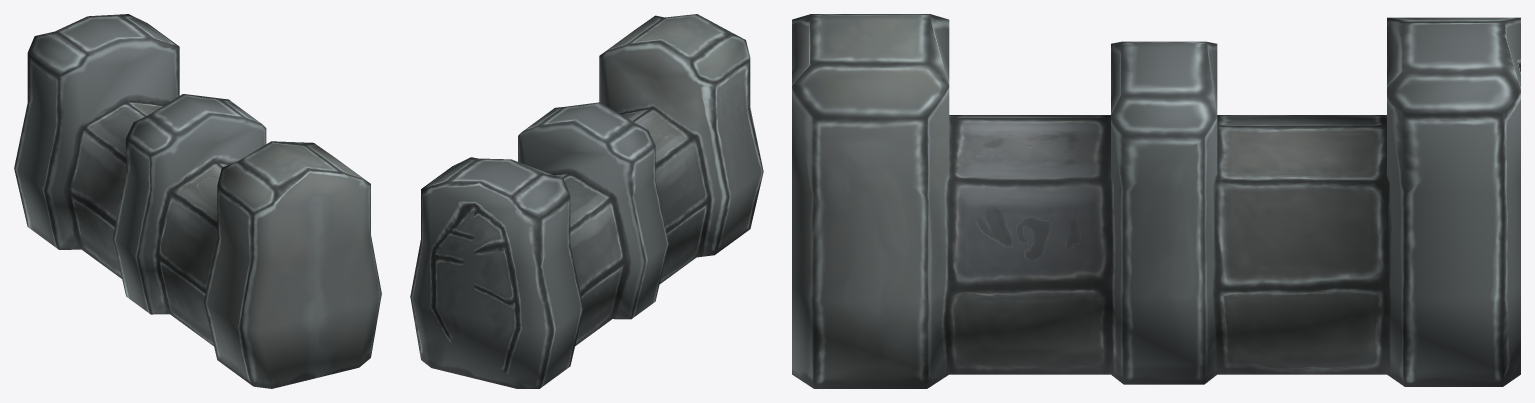
Rendered from cerca_Pedra.fbx.
3 renders of one model, left to right at view 1: azimuth 30°, elevation 25°; view 2: azimuth 150°, elevation 25°; view 3: azimuth 270°, elevation 25°, orthographic. The views are drawn at different scales.
Visible parts, largest first — view 1: Cube; view 2: Cube; view 3: Cube.
Boxes of the visible parts, x1,y1,x2,y2 form: Cube: (14, 14, 381, 388); Cube: (410, 14, 763, 388); Cube: (792, 14, 1520, 388).
Size of the model in its own units: 3.39 by 4.49 by 9.27.
